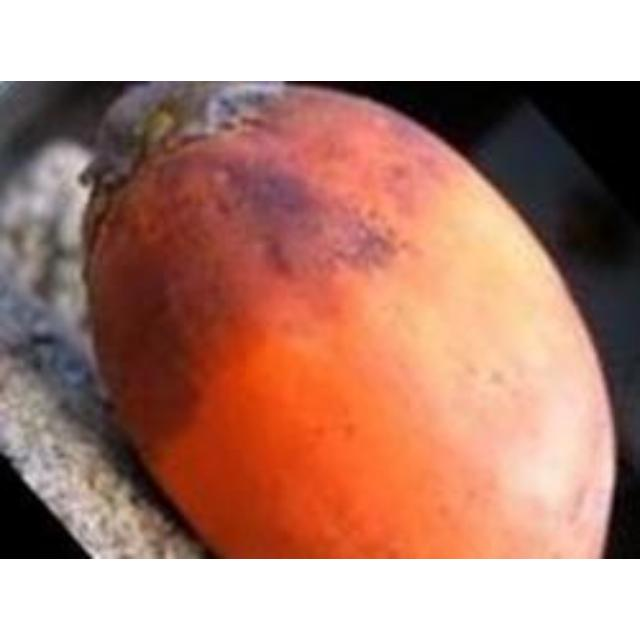good: (77, 81, 622, 557)
